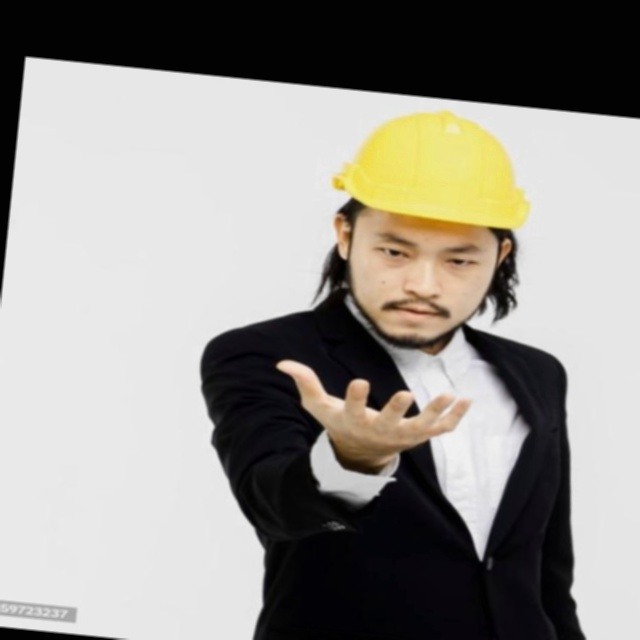Con_Casco: (315, 100, 541, 362)
Sin_Chaleco: (185, 302, 581, 640)
